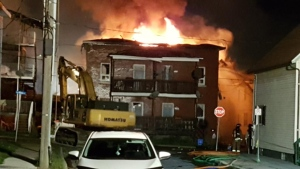Fire: (132, 19, 181, 44), (184, 18, 225, 38), (98, 3, 128, 27)
